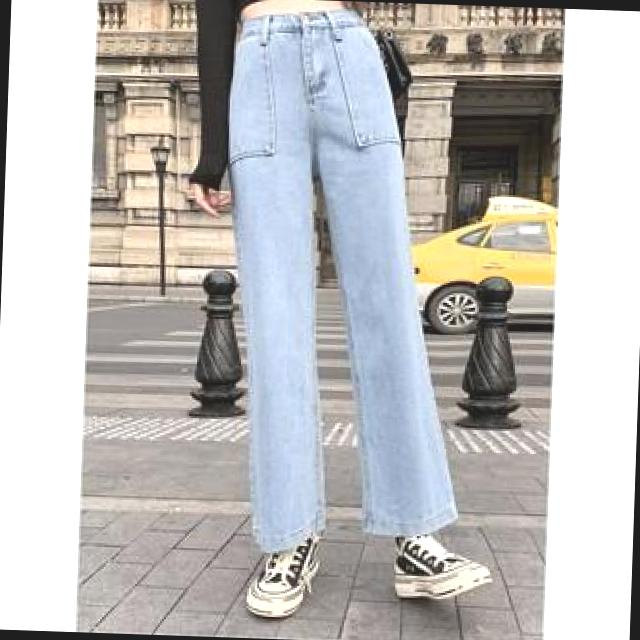pants: (218, 11, 462, 550)
